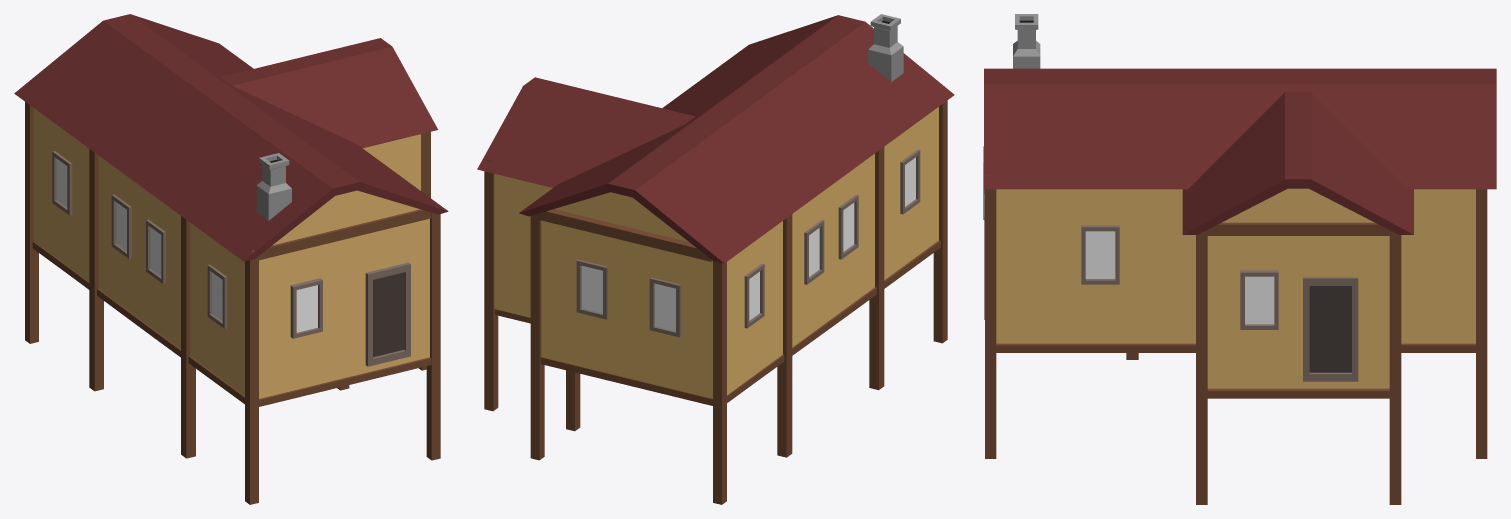
The model's file is M_House_Building_5.fbx.
3 views of the same model, side by side, from view 1: azimuth 30°, elevation 25°; view 2: azimuth 150°, elevation 25°; view 3: azimuth 270°, elevation 25° (orthographic). The views are drawn at different scales.
Parts seen in each view (by area): view 1: M_House_Building_5; view 2: M_House_Building_5; view 3: M_House_Building_5.
Part boxes in pixels (x1,y1,x2,y2): M_House_Building_5: (14, 14, 448, 504); M_House_Building_5: (477, 14, 954, 504); M_House_Building_5: (983, 14, 1496, 504).
Bounding box in the file's own units: 617 × 668 × 866.
